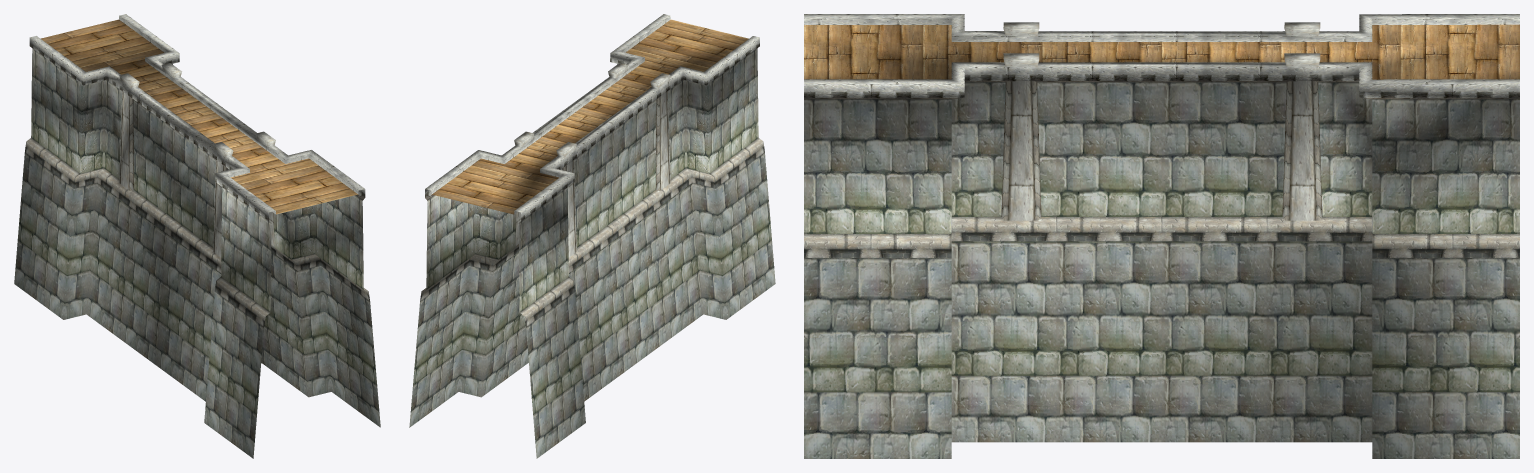
File: wallpiece01.glb
3 renders of one model, left to right at view 1: azimuth 30°, elevation 25°; view 2: azimuth 150°, elevation 25°; view 3: azimuth 270°, elevation 25°, orthographic. The views are drawn at different scales.
Size of the model in its own units: 14.9 by 27.71 by 48.4.
Materials: 4 (4 with a texture image).
